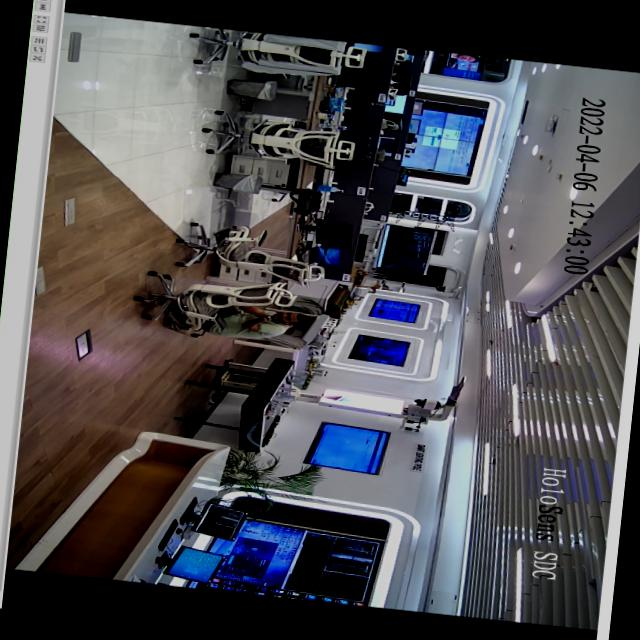long weapon: (248, 308, 284, 328)
